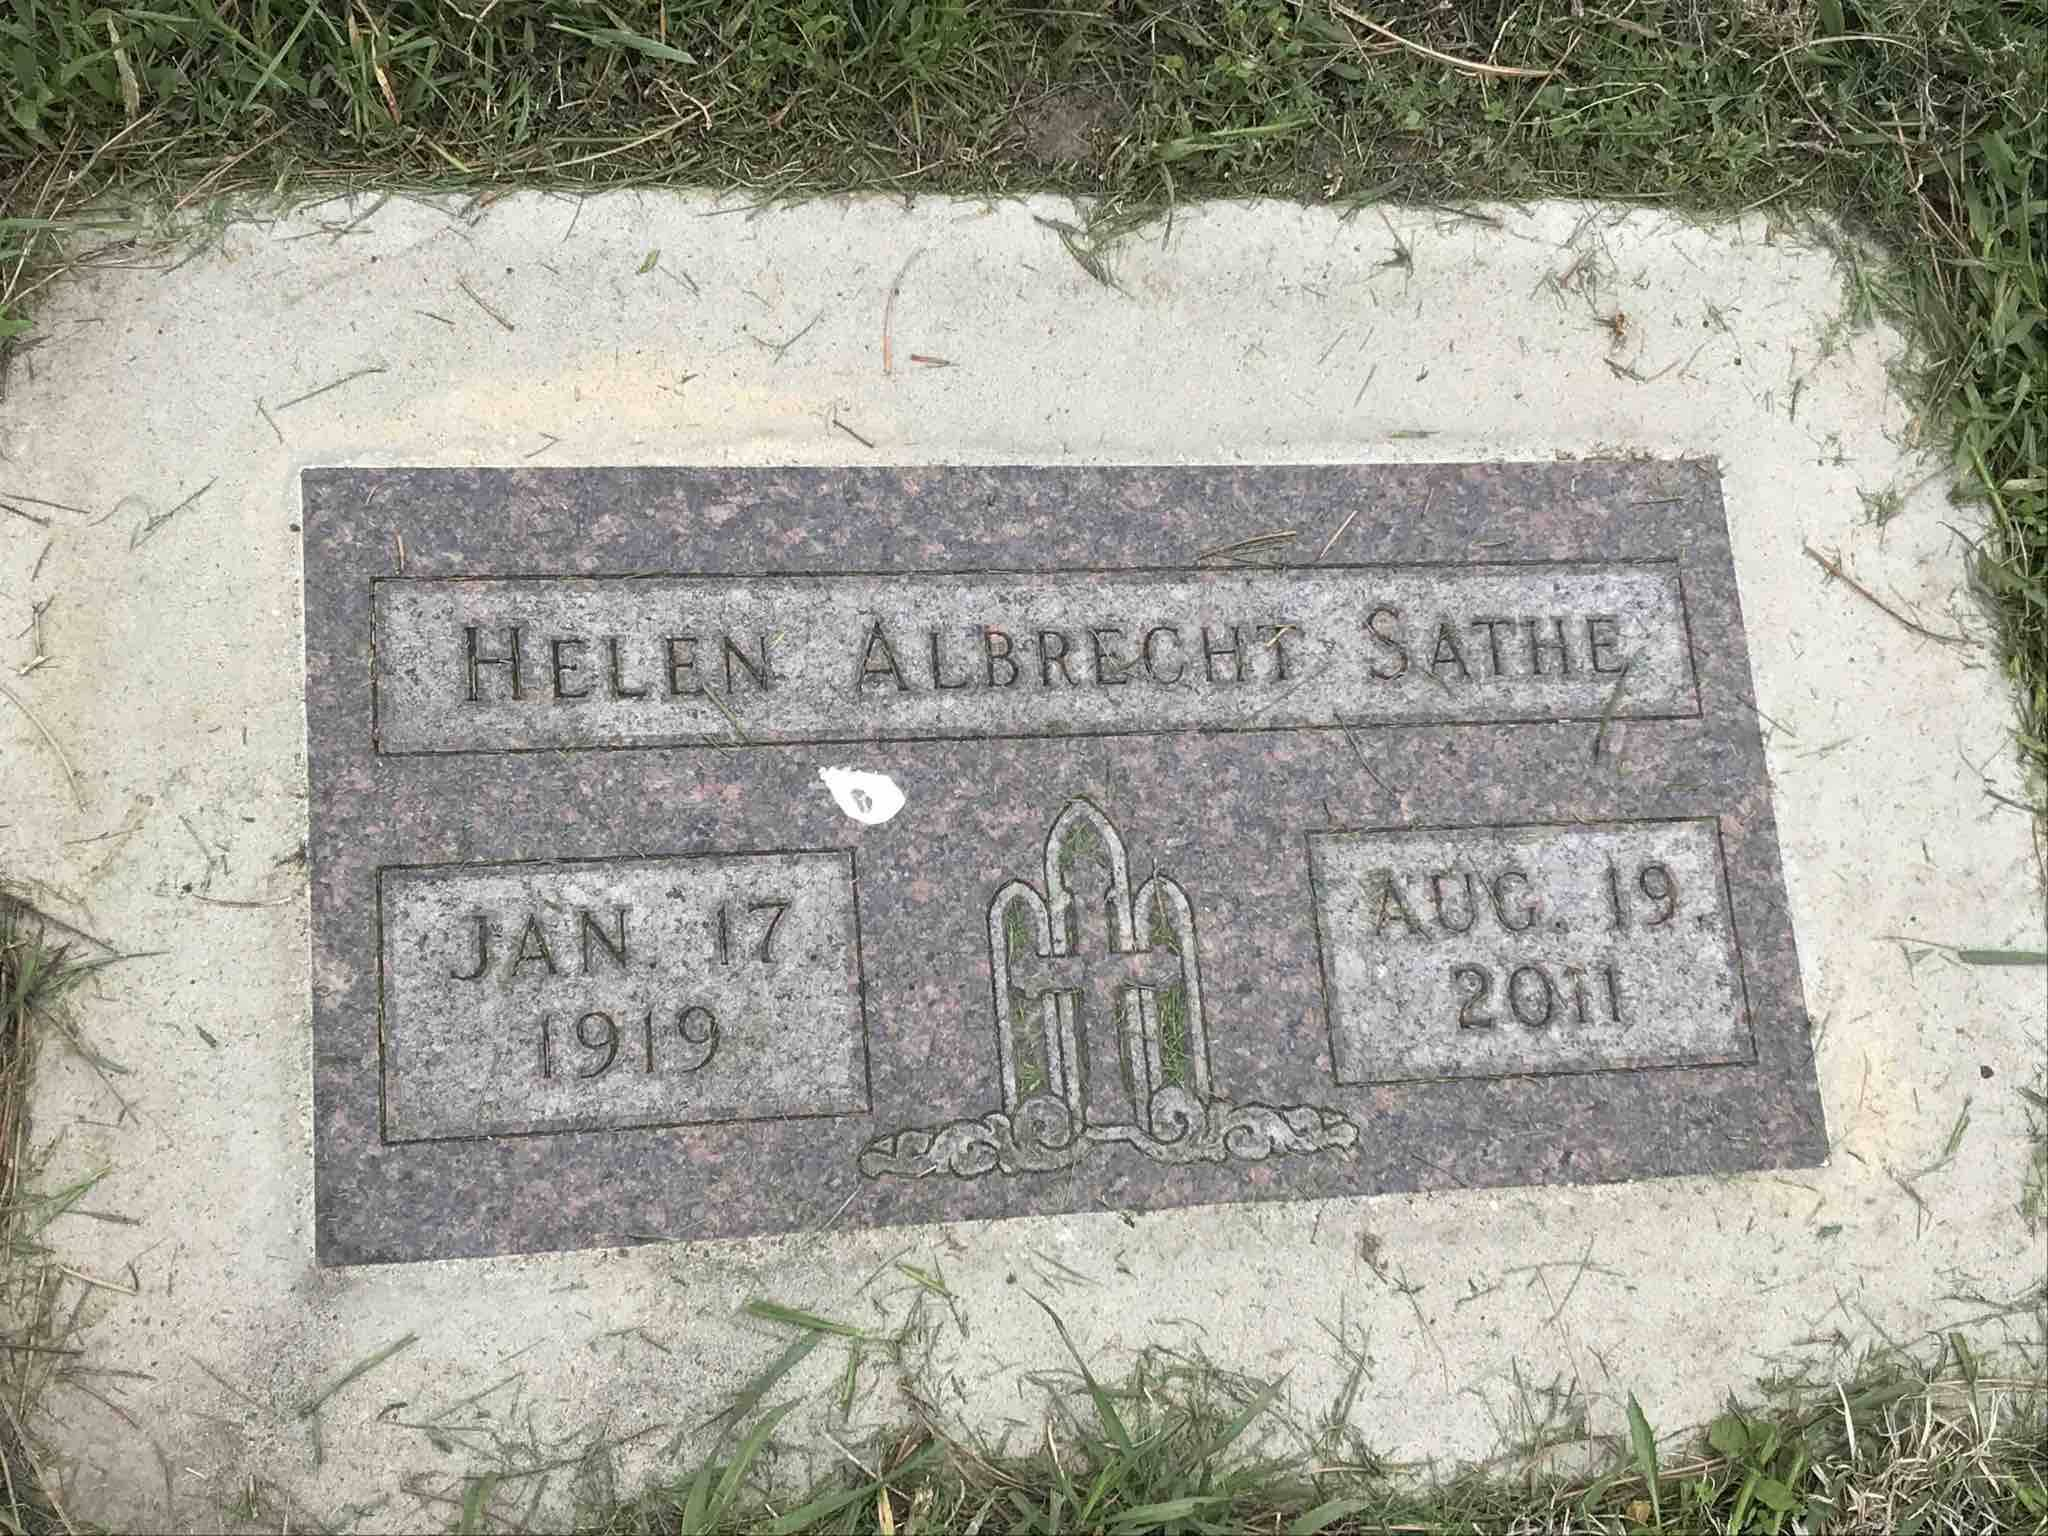flat: (10, 195, 2048, 1468)
